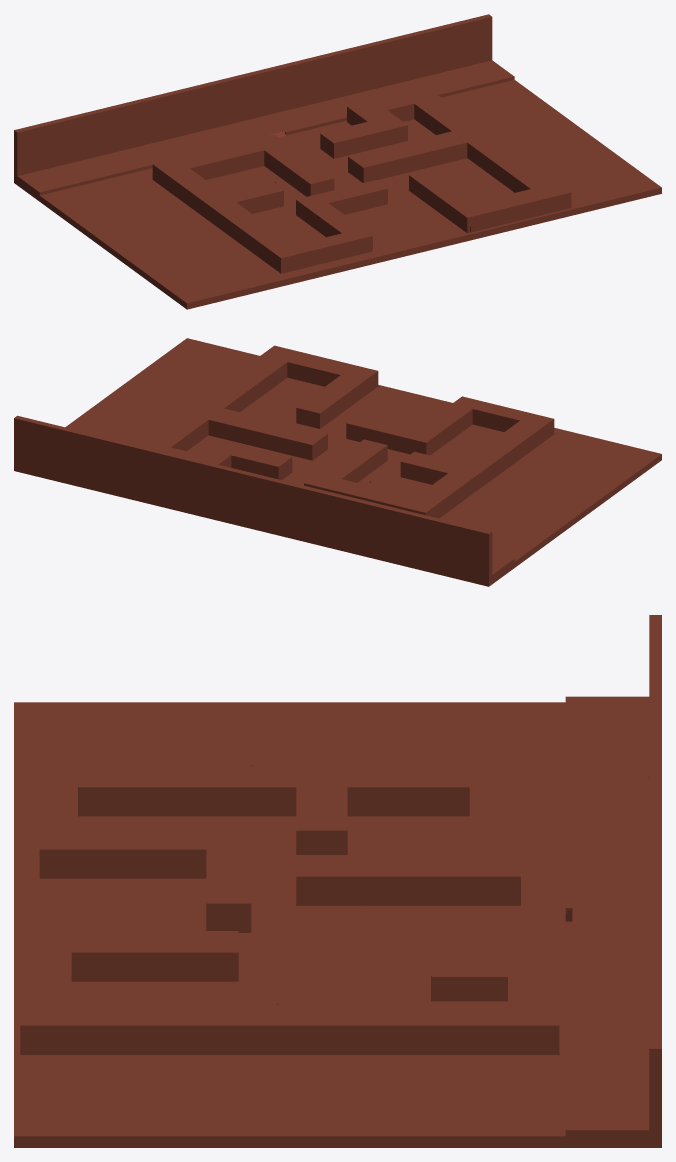
Rendered from cave.glb.
The picture shows the model from 3 angles, top to bottom: view 1: azimuth 30°, elevation 25°; view 2: azimuth 150°, elevation 25°; view 3: azimuth 270°, elevation 25°; orthographic projection. The views are drawn at different scales.
Parts seen in each view (by area): view 1: Cube; view 2: Cube; view 3: Cube.
Boxes of the visible parts, x1,y1,x2,y2 form: Cube: [14, 14, 661, 309]; Cube: [14, 338, 661, 586]; Cube: [14, 615, 661, 1147].
Bounding box in the file's own units: 160 × 17 × 101.
Materials: 1 (1 with a texture image).
